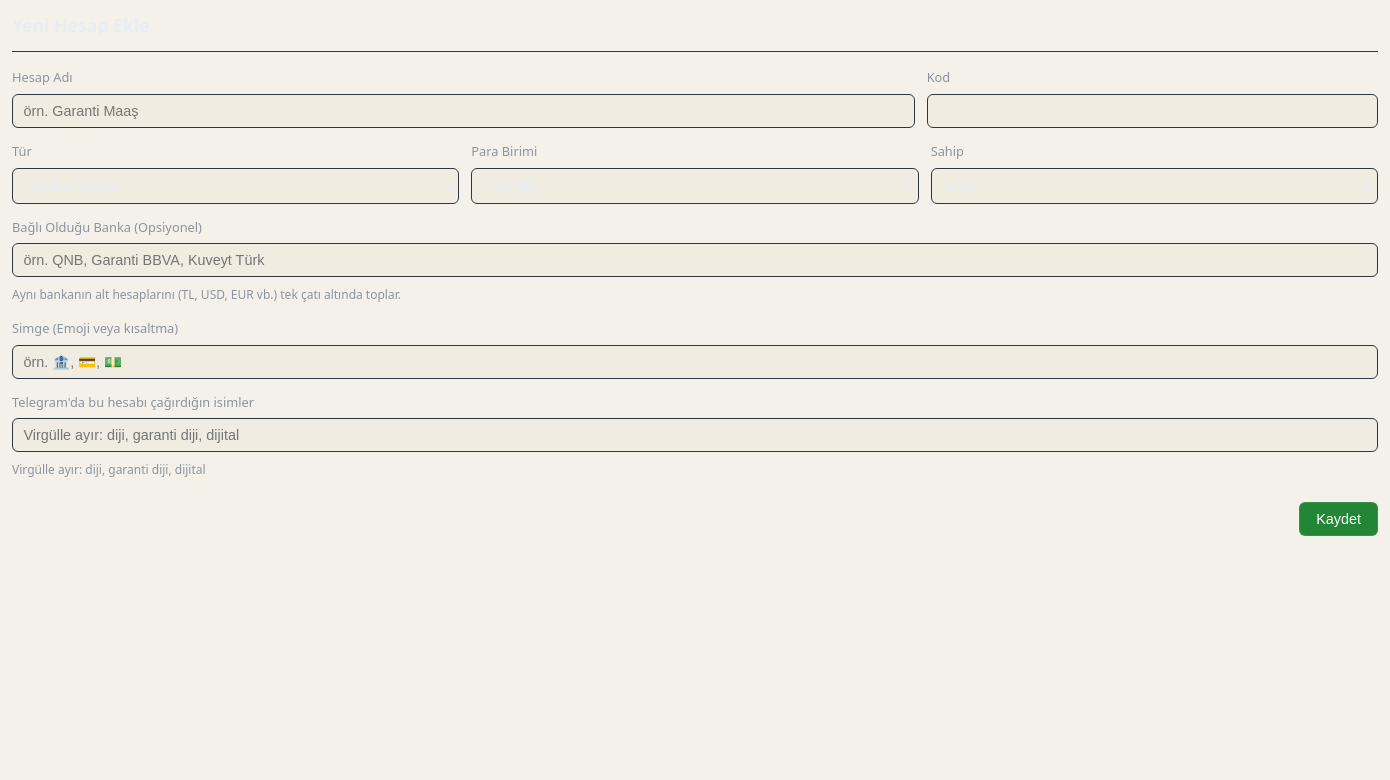
Test: HesapFormu › adı boş hesabı kaydetmez
Click the button "Kaydet" at (1339, 519), box [1299,502,1378,536]
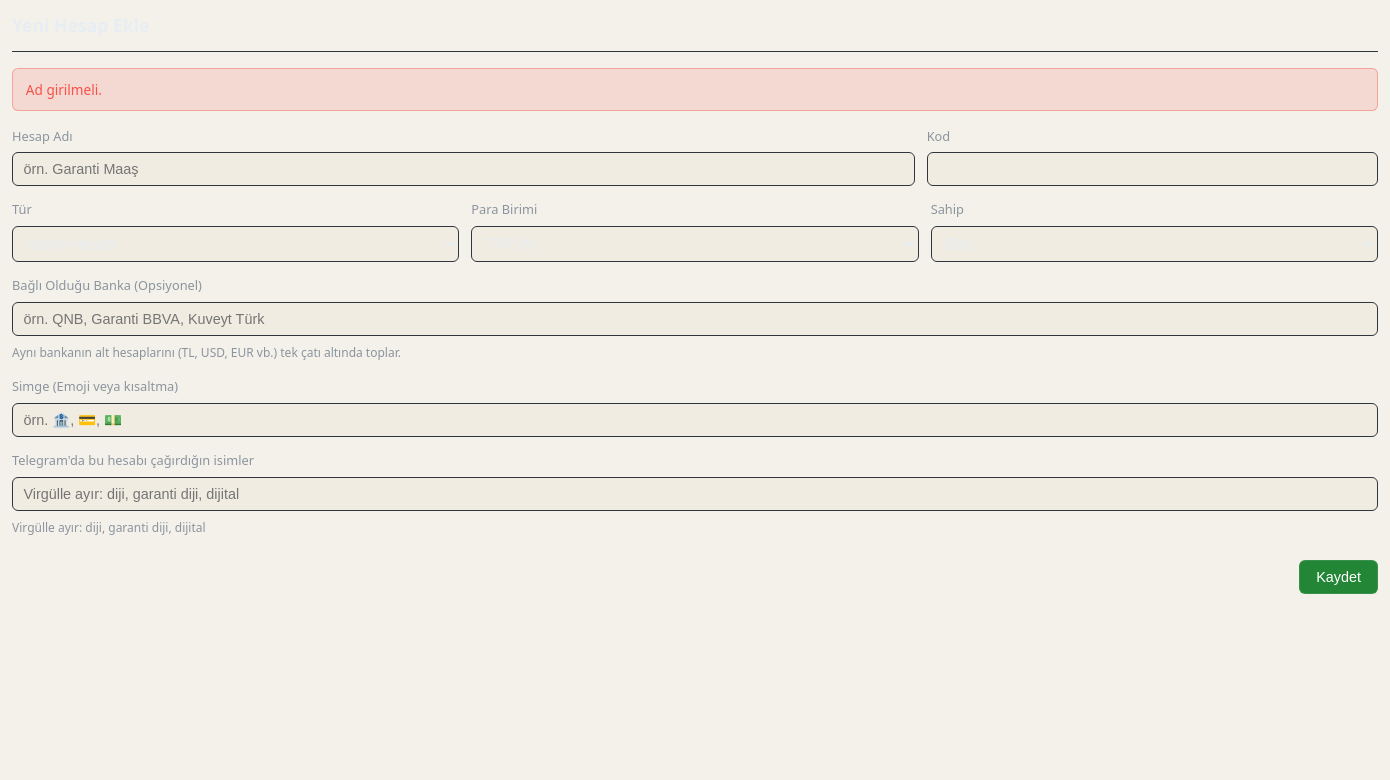
Expected: the text "Ad girilmeli" is shown, [26,80,102,99]
